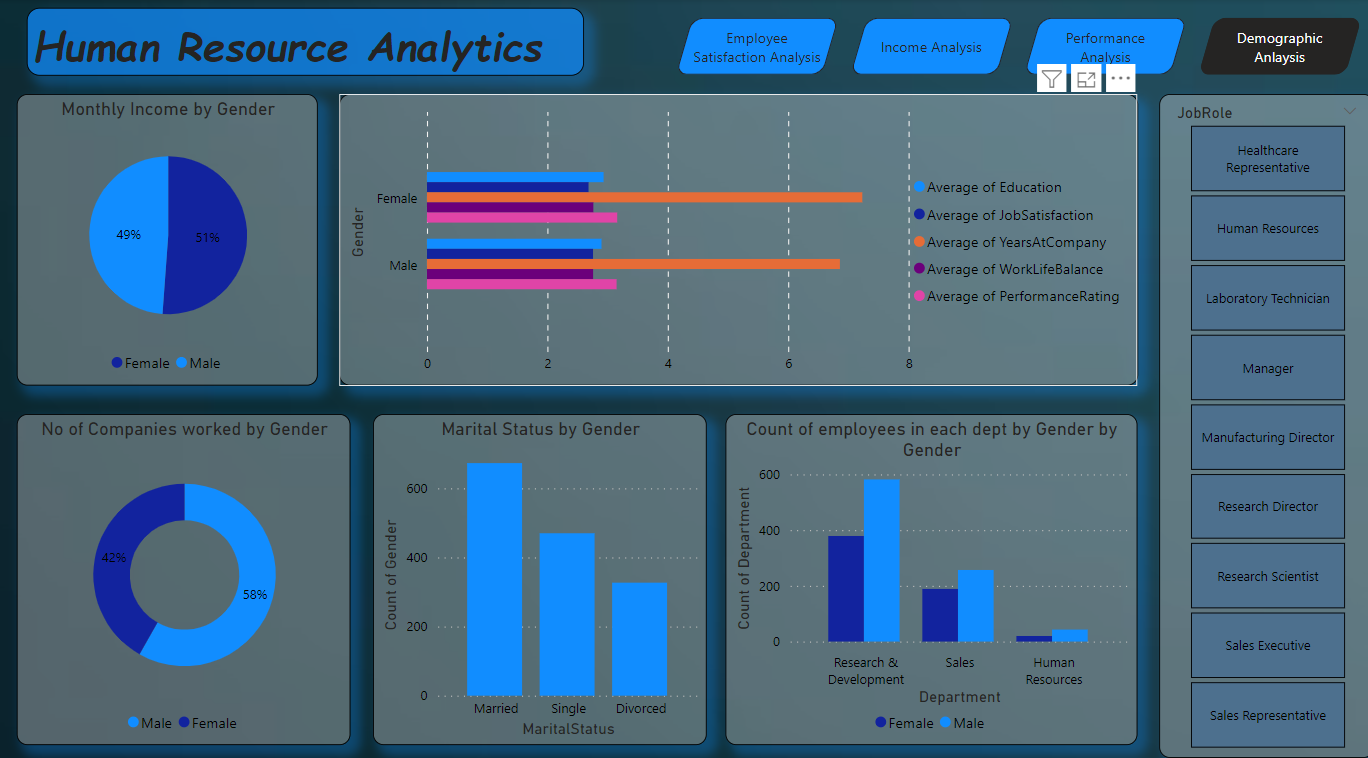

The dashboard page shown, as its layout file describes it:
{"tool":"powerbi","page":{"name":"Demographic Anlaysis","canvas":[1280,720],"ordinal":3},"visuals":[{"type":"pageNavigator","box":[630,17.7,638.9,53.2],"z":0},{"type":"pieChart","title":"Monthly Income by Gender","fields":{"Category":["HR Data.Gender"],"Y":["_Measure.Avg. Monthly Income"]},"box":[17.7,88.7,280.1,271.3],"z":1000},{"type":"clusteredBarChart","title":"Monthly Income by Gender","fields":{"Category":["HR Data.Gender"],"Y":["Avg(HR Data.Education)","Avg(HR Data.JobSatisfaction)","Avg(HR Data.YearsAtCompany)","Avg(HR Data.WorkLifeBalance)","Avg(HR Data.PerformanceRating)"]},"box":[316.9,88.7,742.8,271.3],"z":2000},{"type":"slicer","title":"Satisfaction of employees","fields":{"Values":["HR Data.JobRole"]},"box":[1080,88.7,200.3,617.3],"z":3000},{"type":"donutChart","title":"No of Companies worked by Gender","fields":{"Category":["HR Data.Gender"],"Y":["Sum(HR Data.NumCompaniesWorked)"]},"box":[17.7,386.6,310.6,308],"z":4000},{"type":"clusteredColumnChart","title":"Marital Status by Gender","fields":{"Y":["CountNonNull(HR Data.Gender)"],"Category":["HR Data.MaritalStatus"]},"box":[348.6,386.6,310.6,308],"z":5000},{"type":"clusteredColumnChart","title":"Count of employees in each dept by Gender by Gender","fields":{"Series":["HR Data.Gender"],"Category":["HR Data.Department"],"Y":["CountNonNull(HR Data.Department)"]},"box":[676.9,386.6,382.8,308],"z":6000},{"type":"textbox","box":[26.6,7.6,518.4,63.4],"z":7000}]}

Visuals, with their boxes in screenshot pixels (x1, y1, x2, y2), scaled from the page's 1280x720 canvas onto the 1368x758 screenshot:
pageNavigator: rect(673, 19, 1356, 75)
"Monthly Income by Gender" pieChart: rect(19, 93, 318, 379)
"Monthly Income by Gender" clusteredBarChart: rect(339, 93, 1133, 379)
"Satisfaction of employees" slicer: rect(1154, 93, 1367, 743)
"No of Companies worked by Gender" donutChart: rect(19, 407, 351, 731)
"Marital Status by Gender" clusteredColumnChart: rect(373, 407, 705, 731)
"Count of employees in each dept by Gender by Gender" clusteredColumnChart: rect(723, 407, 1133, 731)
textbox: rect(28, 8, 582, 75)
